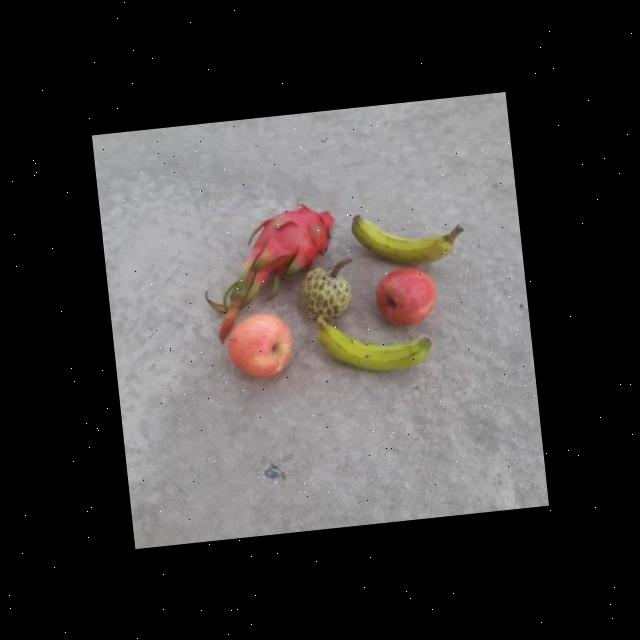Sakya fruit: (293, 261, 357, 328)
apple: (212, 308, 304, 387), (373, 261, 442, 328)
banana: (316, 308, 438, 380), (346, 202, 462, 270)
pitaya: (236, 195, 341, 278)
